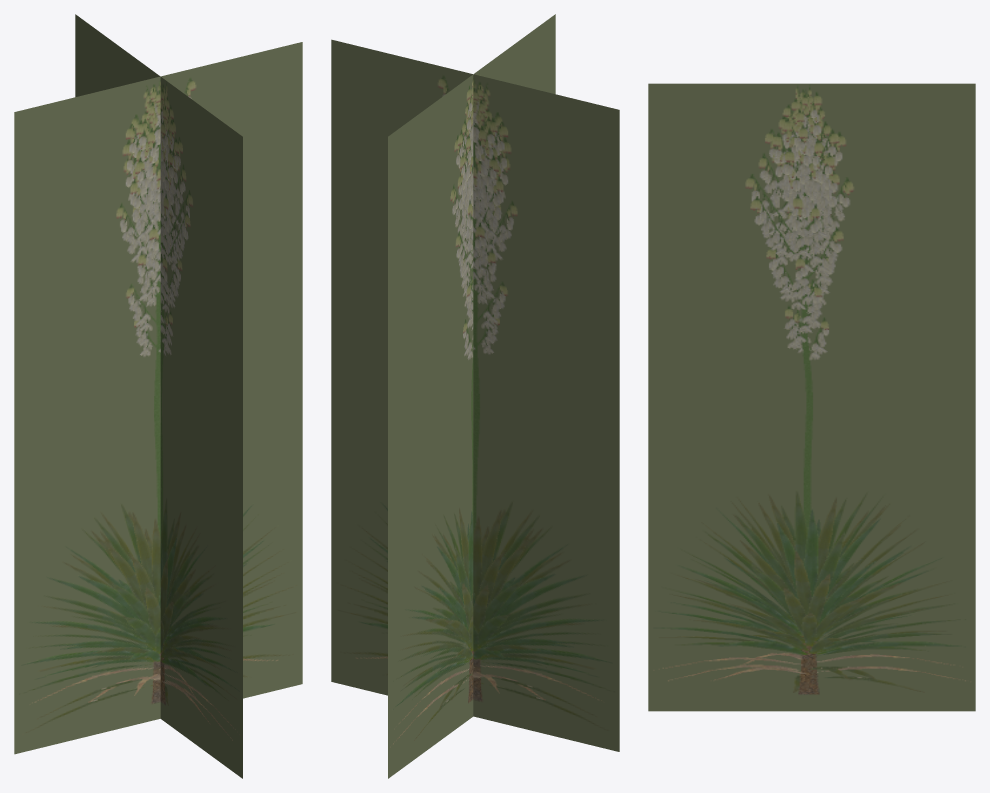
The model's file is YuccaGloriosa.glb.
3 views of the same model, side by side, from view 1: azimuth 30°, elevation 25°; view 2: azimuth 150°, elevation 25°; view 3: azimuth 270°, elevation 25° (orthographic). The views are drawn at different scales.
Parts seen in each view (by area): view 1: mesh__mat_billboard_12; view 2: mesh__mat_billboard_12; view 3: mesh__mat_billboard_12.
Part boxes in pixels (<box>): mesh__mat_billboard_12: <box>14,14,302,778</box>; mesh__mat_billboard_12: <box>331,14,619,778</box>; mesh__mat_billboard_12: <box>648,83,975,711</box>.
Size of the model in its own units: 1.19 by 2.54 by 1.2.
Materials: 1 (1 with a texture image).
